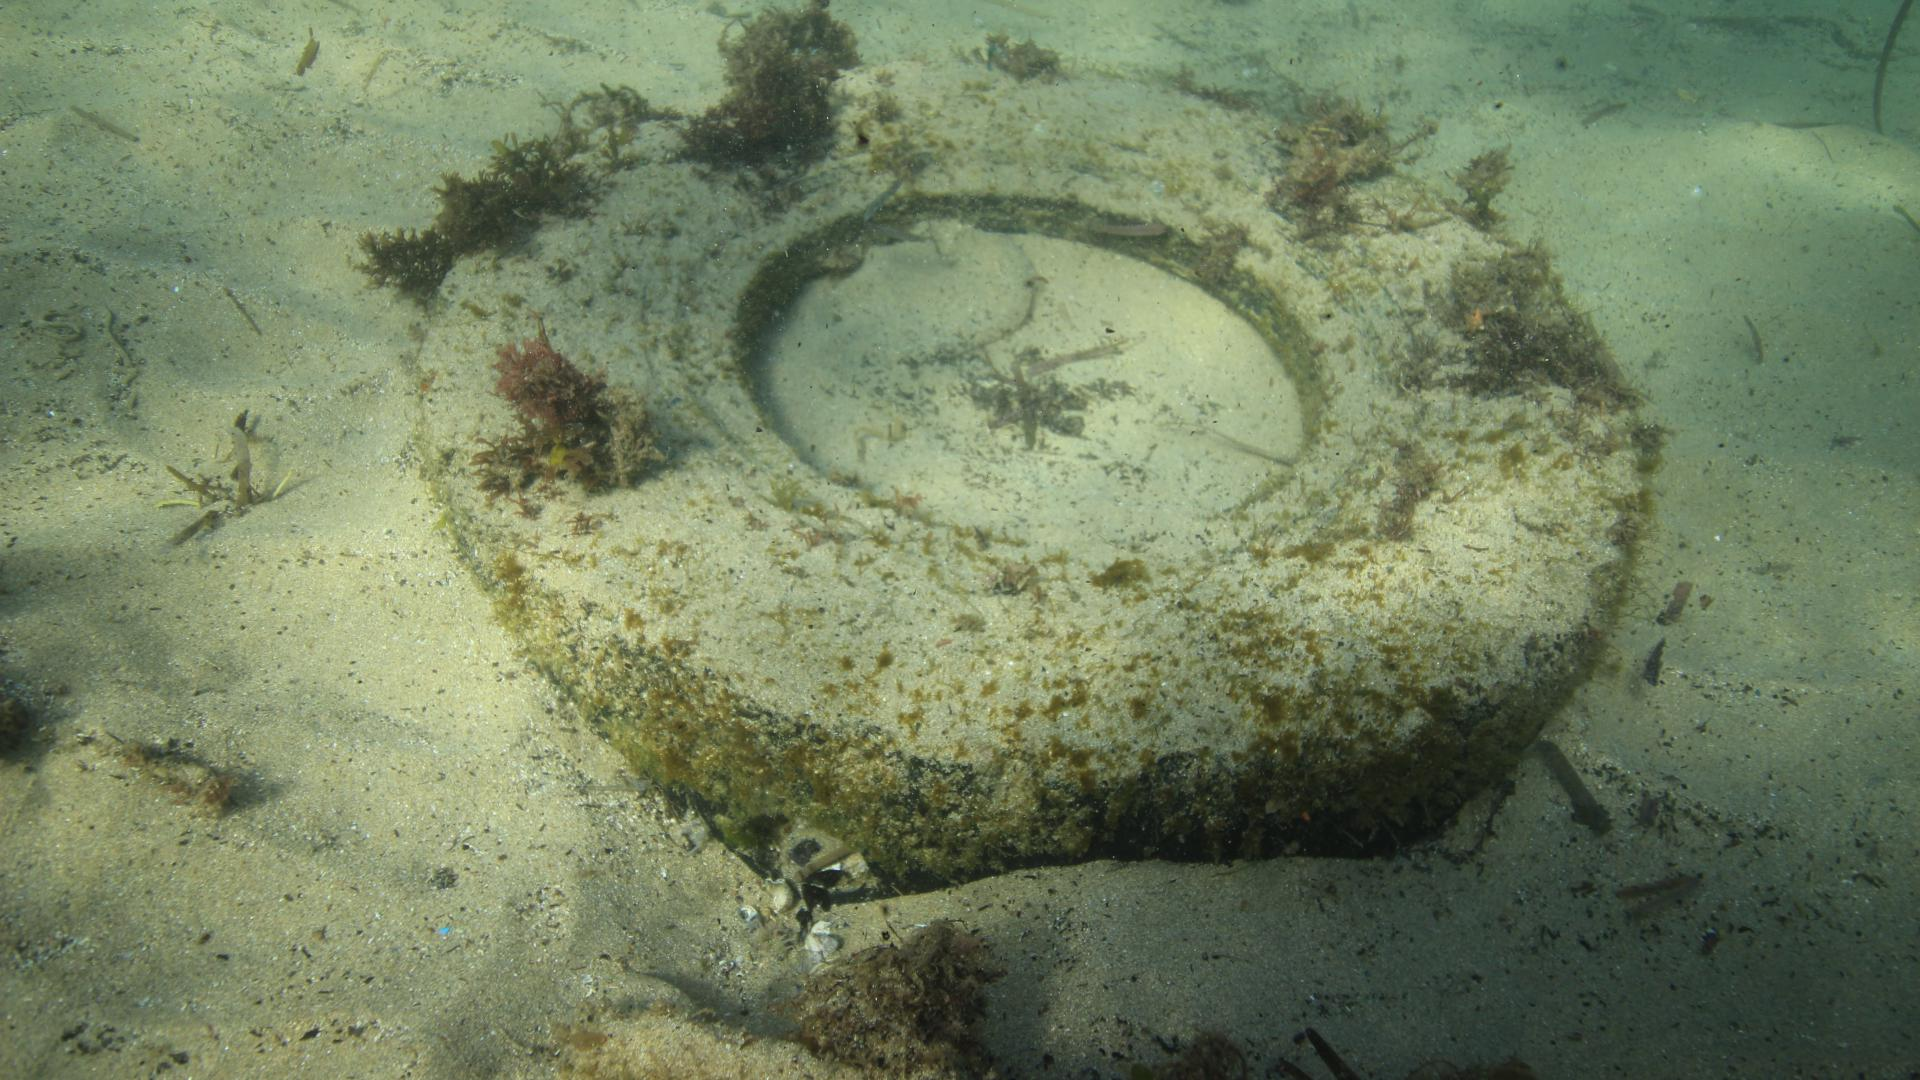tire: (409, 57, 1640, 905)
